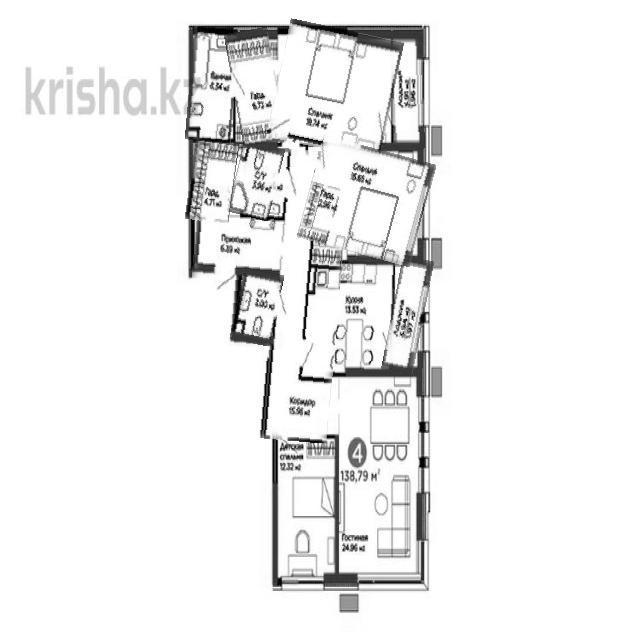balcony: (386, 257, 429, 375), (392, 29, 424, 149)
bathroom: (187, 27, 238, 143), (231, 143, 281, 220), (232, 268, 281, 345)
hallway: (194, 150, 332, 443)
kitchen: (306, 260, 395, 374)
living_room: (339, 368, 424, 583), (272, 24, 399, 155), (302, 142, 431, 260), (274, 434, 341, 588)
other: (229, 29, 282, 147), (187, 140, 237, 223)
